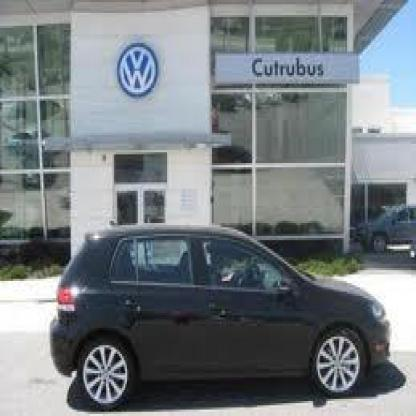Vehicle: (50, 225, 397, 414)
